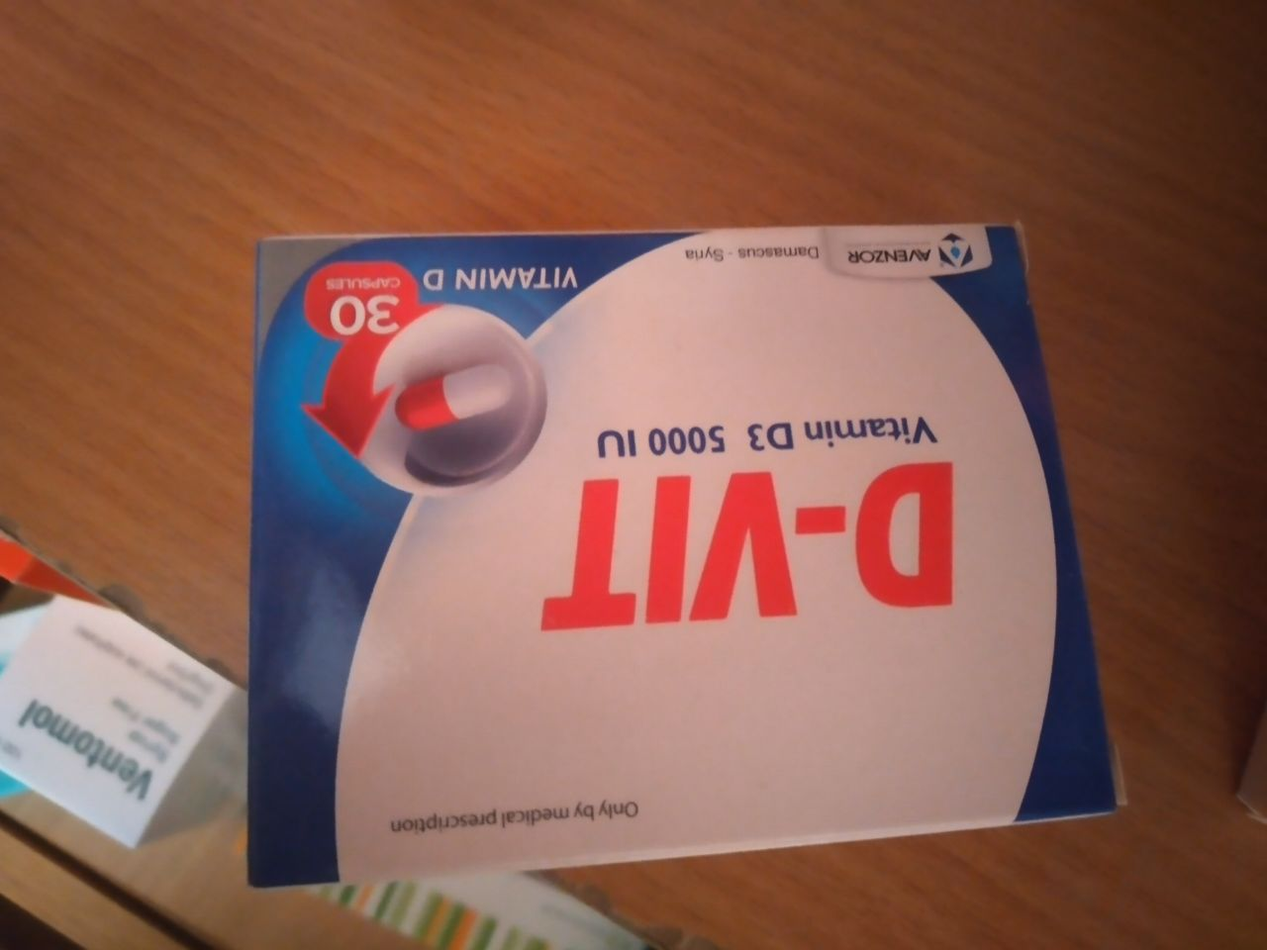Medicine: (230, 198, 1141, 903)
